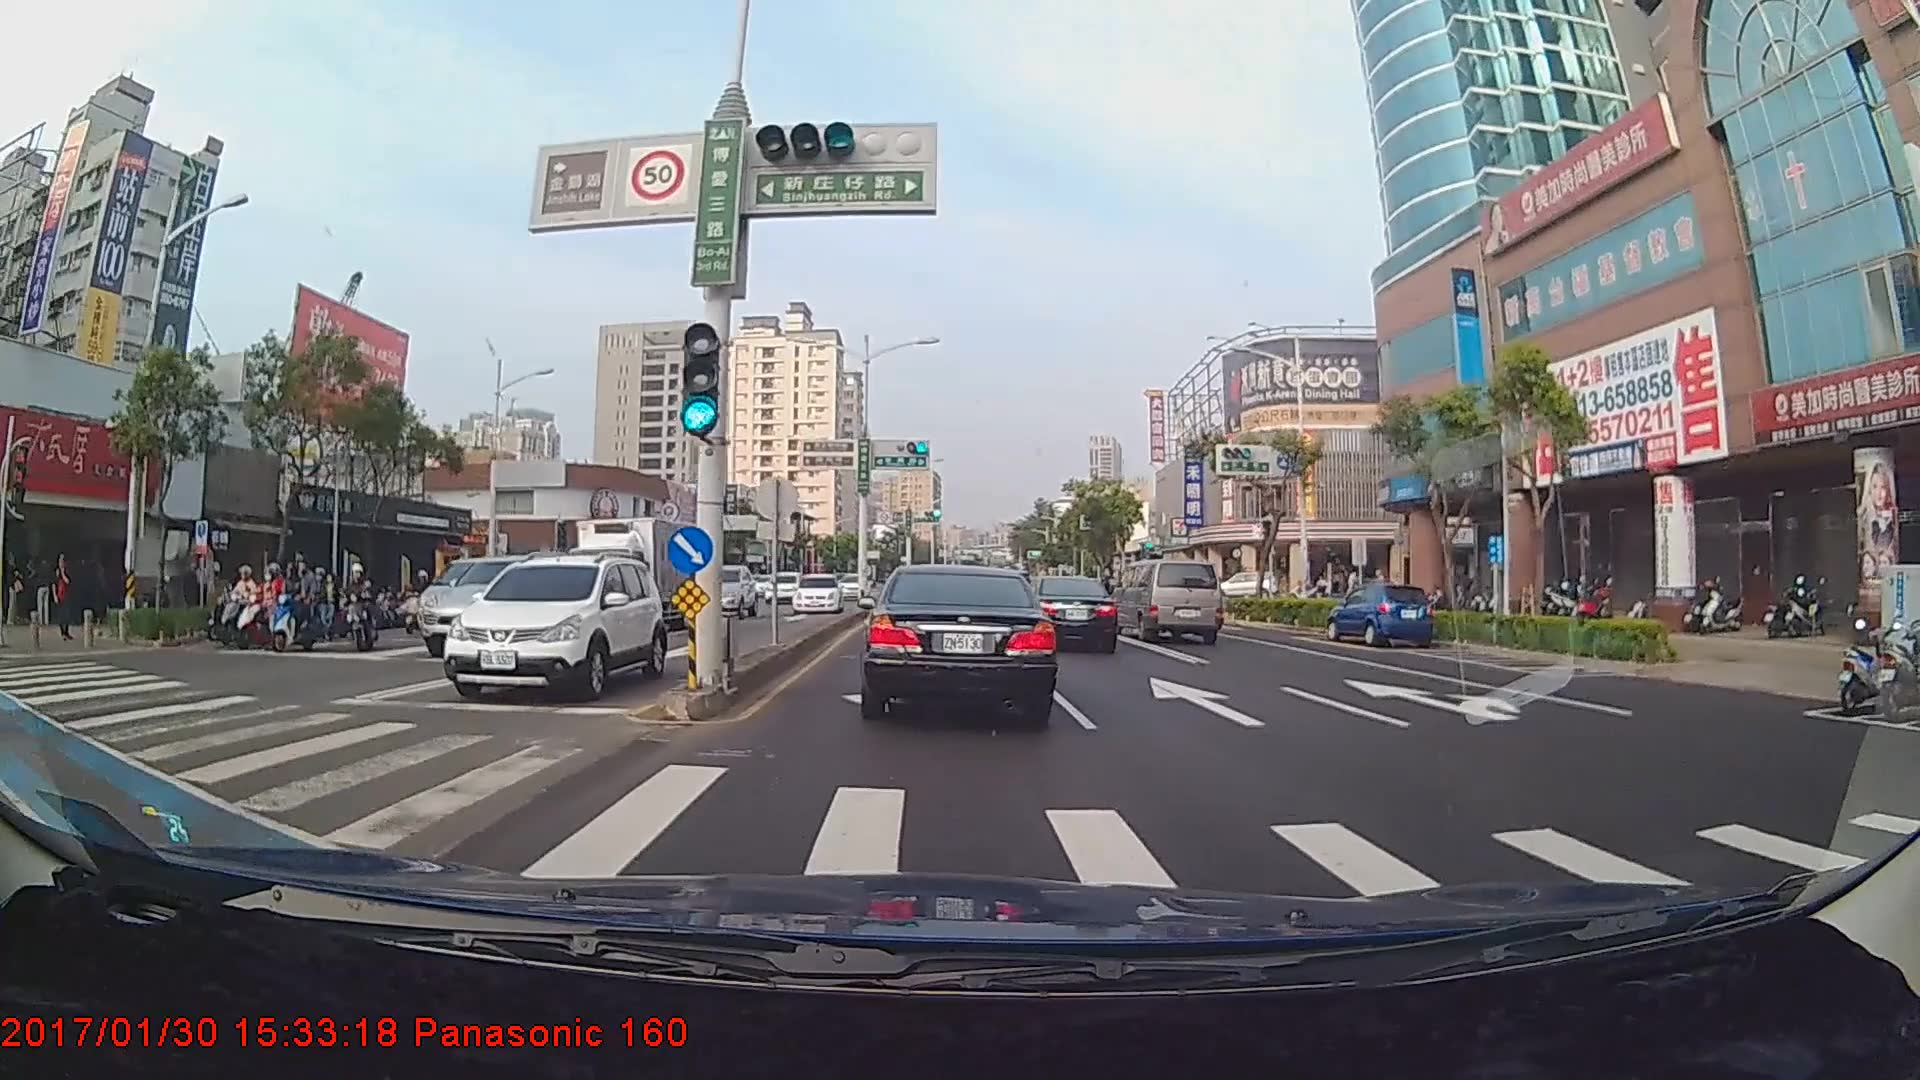pedestrian: (50, 553, 77, 644), (7, 547, 28, 630), (35, 553, 56, 631)
rider: (264, 561, 341, 650), (230, 562, 302, 648), (335, 558, 394, 660), (205, 561, 272, 645)
vehicle: (861, 556, 1055, 719), (444, 556, 661, 696), (557, 513, 702, 651), (425, 550, 570, 657), (1118, 559, 1222, 645), (1016, 570, 1117, 652), (1328, 582, 1434, 647), (689, 561, 755, 615), (788, 574, 841, 615), (764, 573, 799, 604)
